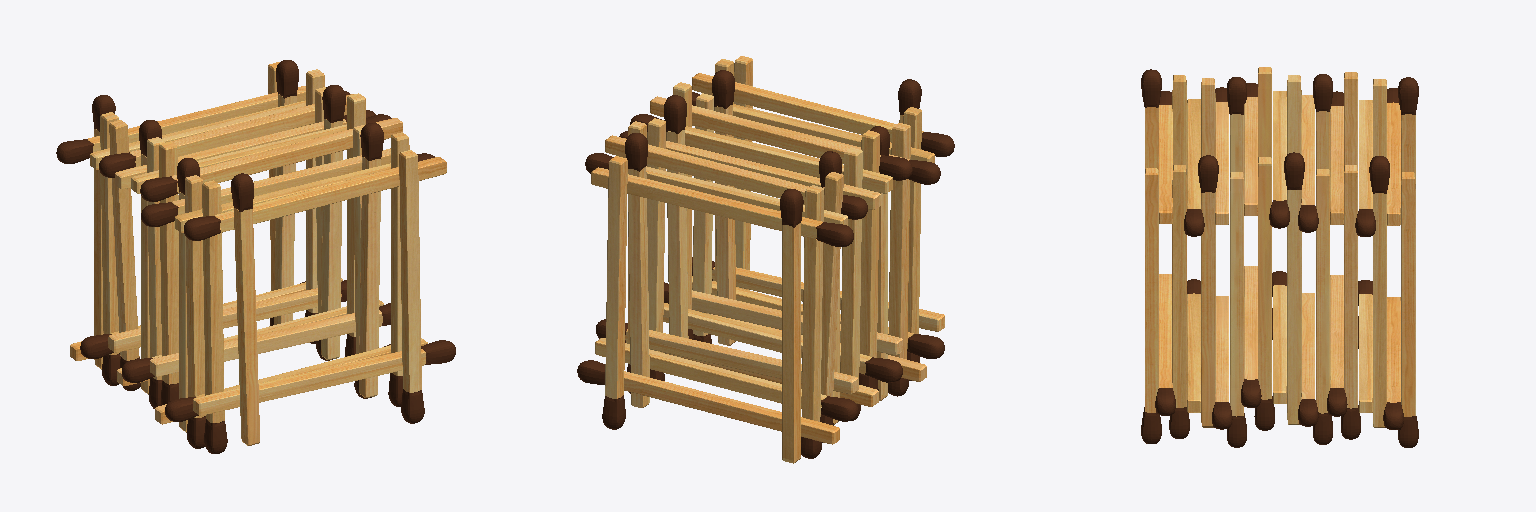
The picture shows the model from 3 angles: view 1: azimuth 30°, elevation 25°; view 2: azimuth 150°, elevation 25°; view 3: azimuth 270°, elevation 25°; orthographic projection.
Parts seen in each view (by area): view 1: object; view 2: object; view 3: object.
Part boxes in pixels (left/top/right/bottom): object: left=56, top=60, right=455, bottom=453; object: left=577, top=56, right=954, bottom=463; object: left=1141, top=67, right=1418, bottom=447.
Size of the model in its own units: 0.0386 by 0.0382 by 0.0326.
Materials: 3 (1 with a texture image).